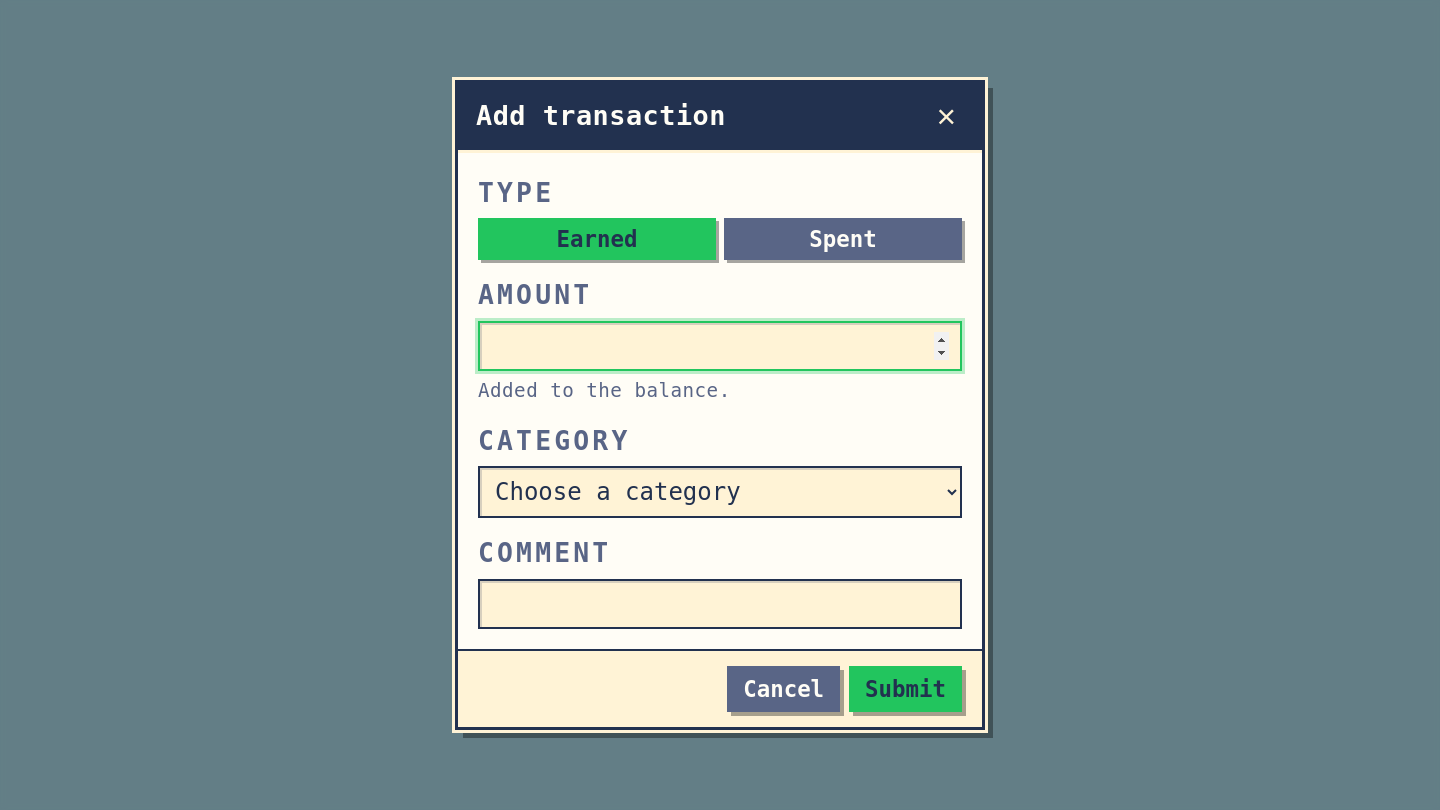
Test: CoinForm › refuses an empty amount
This screenshot has width=1440, height=810.
Click the button "Submit": (906, 689) left=849, top=666, right=962, bottom=712
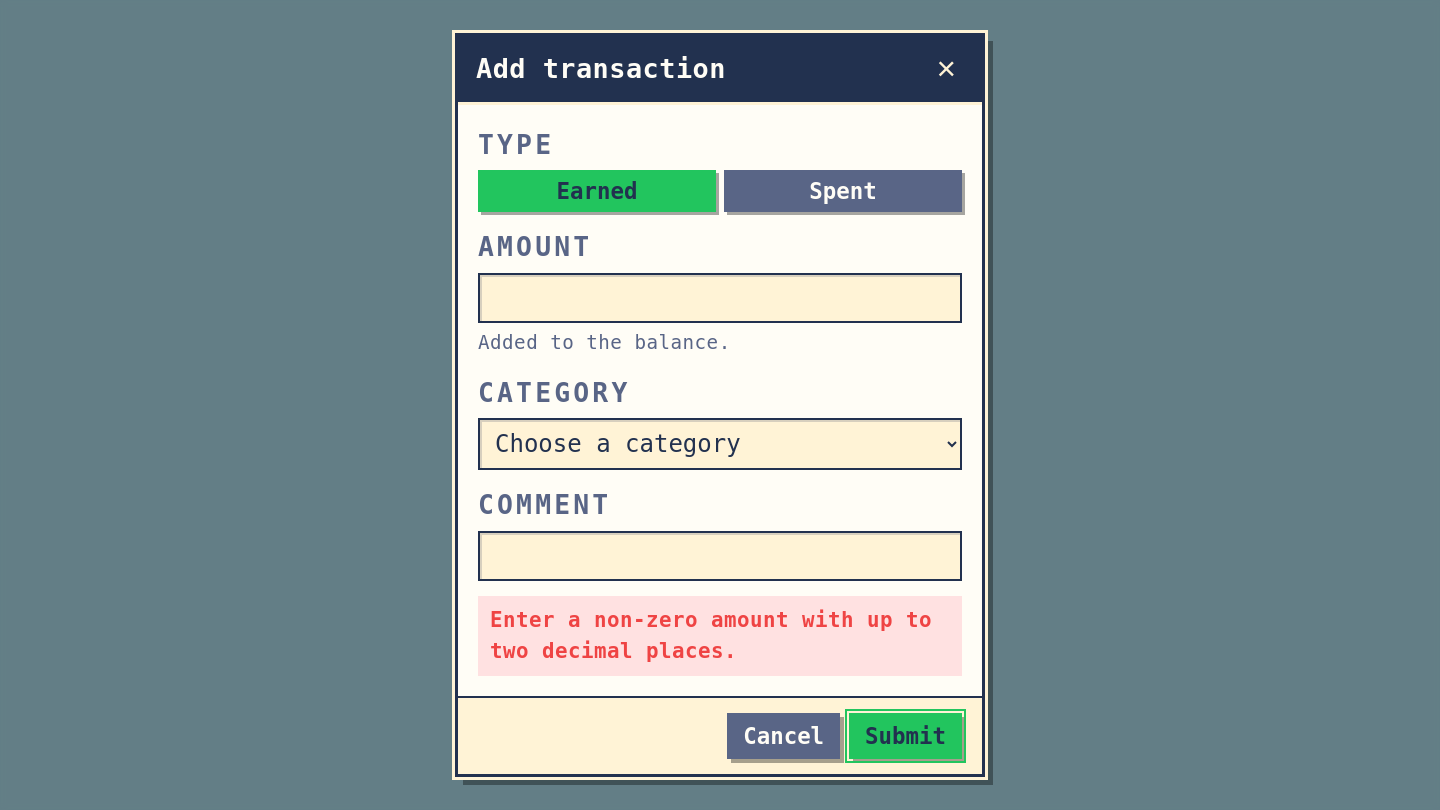
Result: the message shows "two decimal places" at left=490, top=608, right=932, bottom=663
